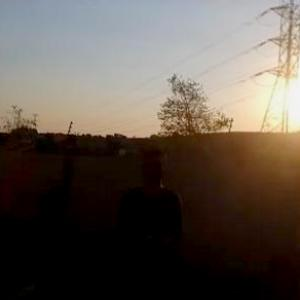follow: (114, 143, 187, 299)
